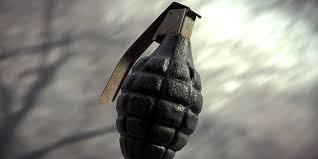Grenade: (98, 0, 204, 158)
